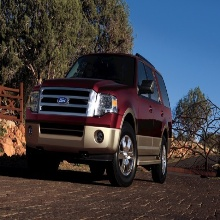no damage: (24, 53, 173, 188)
